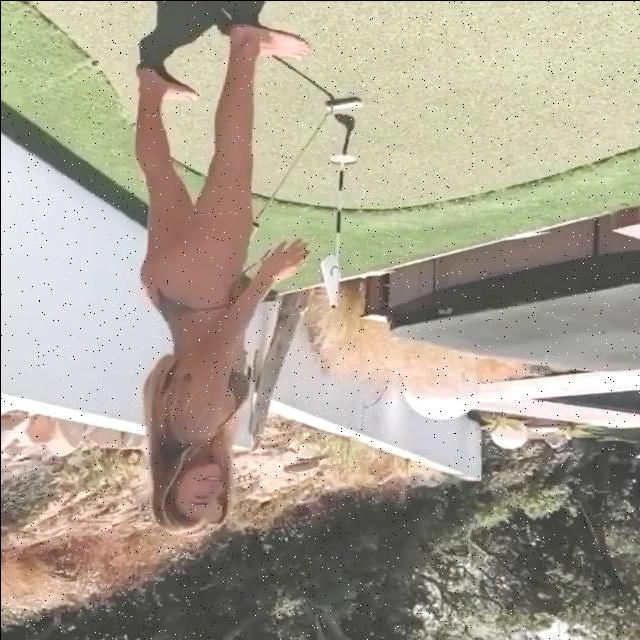golf club-handle: (246, 98, 362, 242)
golf club-head: (325, 99, 362, 110)
